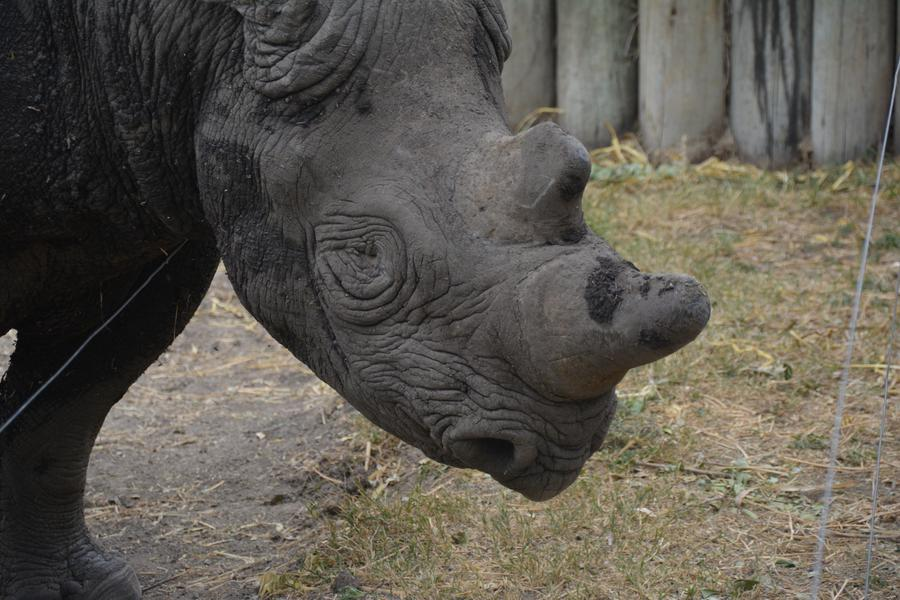rhino: (13, 22, 622, 553)
